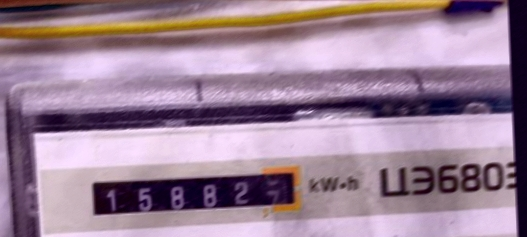1: (105, 182, 119, 212)
2: (232, 178, 250, 204)
5: (136, 183, 154, 213)
7: (265, 185, 279, 203)
8: (168, 181, 185, 210), (201, 179, 218, 208)
screen: (80, 155, 309, 226)
